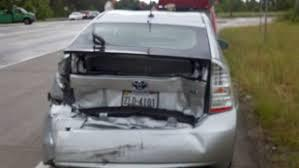boot-dent: (70, 60, 184, 130)
rear-bumper-dent: (58, 132, 219, 167)
